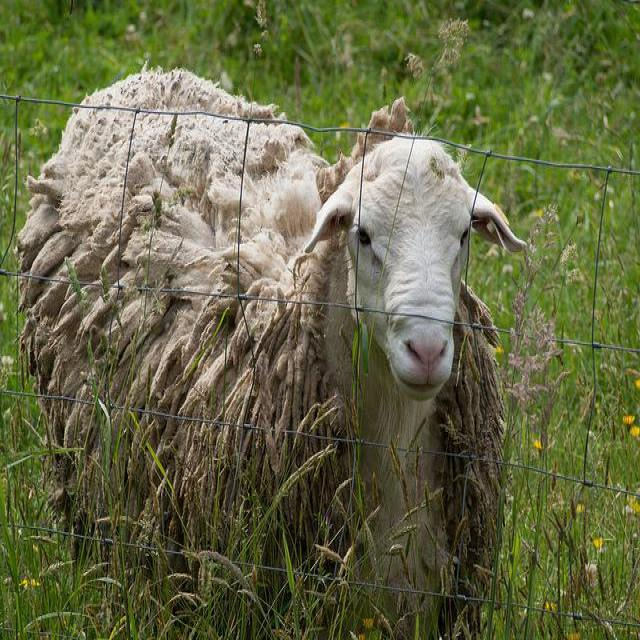Sheep: (17, 67, 532, 630)
